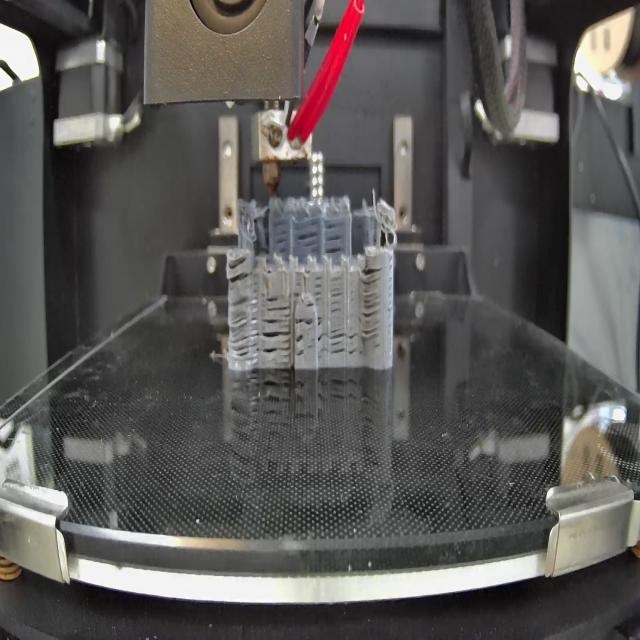cracks: (230, 296, 259, 364), (362, 265, 382, 343), (262, 317, 291, 363), (331, 323, 360, 358), (297, 220, 320, 256), (227, 253, 254, 283), (326, 215, 345, 255), (275, 218, 290, 256), (264, 292, 291, 312), (316, 314, 327, 358), (331, 276, 343, 315), (313, 273, 325, 298), (294, 268, 303, 300), (296, 333, 306, 360), (295, 316, 314, 326), (304, 301, 318, 308)
